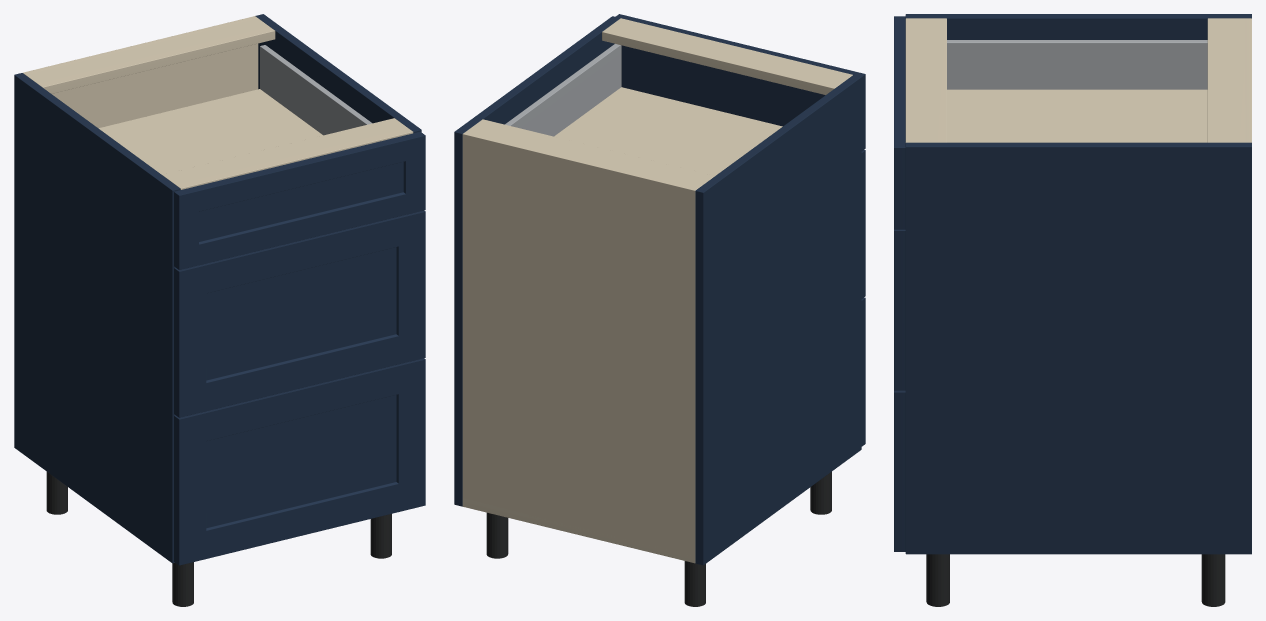
The model's file is oppein-ply-bss-3db21.glb.
3 views of the same model, side by side, from view 1: azimuth 30°, elevation 25°; view 2: azimuth 150°, elevation 25°; view 3: azimuth 270°, elevation 25° (orthographic). The views are drawn at different scales.
Visible parts, largest first — view 1: Cabinet side, Drawer front.001, Drawer front, Drawer front.002, Drawer floor.002, Cabinet back, Top support rail, Top support rail.001, Drawer side.005, Cabinet side.001, Adjustable foot.001, Adjustable foot.003 (+1 smaller); view 2: Cabinet back, Cabinet side, Drawer floor.002, Drawer front.002, Cabinet side.001, Top support rail.001, Drawer side.005, Top support rail, Cabinet bottom, Adjustable foot.002, Adjustable foot, Adjustable foot.001 (+2 smaller); view 3: Cabinet side.001, Drawer floor.002, Drawer side.004, Cabinet side, Top support rail.001, Top support rail, Drawer front.002, Drawer front, Drawer front.001, Adjustable foot.002, Adjustable foot.003, Cabinet back.
Boxes of the visible parts, x1,y1,x2,y2 form: Cabinet side: (14, 73, 180, 563); Drawer front.001: (174, 210, 425, 417); Drawer front: (174, 358, 425, 565); Drawer front.002: (174, 131, 425, 269); Drawer floor.002: (99, 89, 322, 174); Cabinet back: (23, 16, 258, 128); Top support rail: (24, 18, 275, 93); Top support rail.001: (162, 118, 413, 189); Drawer side.005: (260, 45, 372, 135); Cabinet side.001: (255, 14, 421, 133); Adjustable foot.001: (172, 562, 193, 606); Adjustable foot.003: (370, 514, 391, 558); Cabinet back: (462, 132, 697, 562); Cabinet side: (695, 75, 861, 565); Drawer floor.002: (554, 87, 782, 175); Drawer front.002: (615, 14, 865, 150); Cabinet side.001: (454, 16, 620, 506); Top support rail.001: (602, 18, 852, 94); Drawer side.005: (505, 44, 621, 136); Top support rail: (466, 119, 714, 188); Cabinet bottom: (462, 498, 694, 563); Adjustable foot.002: (486, 512, 508, 558); Adjustable foot: (684, 561, 705, 606); Adjustable foot.001: (810, 471, 831, 514); Cabinet side.001: (905, 142, 1251, 554); Drawer floor.002: (947, 89, 1207, 142); Drawer side.004: (947, 40, 1207, 89); Cabinet side: (905, 14, 1251, 39); Top support rail.001: (905, 18, 946, 142); Top support rail: (1207, 18, 1245, 142); Drawer front.002: (894, 16, 905, 229); Drawer front: (894, 390, 905, 551); Drawer front.001: (894, 229, 905, 390); Adjustable foot.002: (1201, 554, 1225, 606); Adjustable foot.003: (926, 554, 949, 606); Cabinet back: (1245, 18, 1251, 142).
Size of the model in its own units: 0.5334 by 0.8763 by 0.6064.
